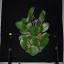leaf: (15, 22, 28, 34), (27, 6, 35, 22), (38, 22, 50, 32), (39, 38, 49, 50), (28, 47, 39, 56), (20, 40, 28, 51), (31, 26, 39, 36), (39, 10, 45, 22), (30, 38, 39, 46), (27, 34, 36, 41), (19, 35, 27, 42), (39, 33, 50, 38), (21, 18, 28, 24), (39, 25, 43, 33), (36, 21, 39, 29), (25, 45, 28, 51)
